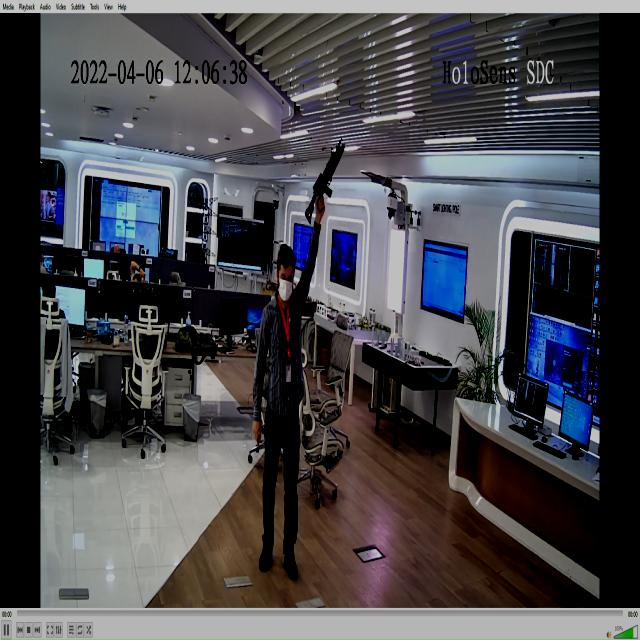long weapon: (303, 133, 349, 235)
